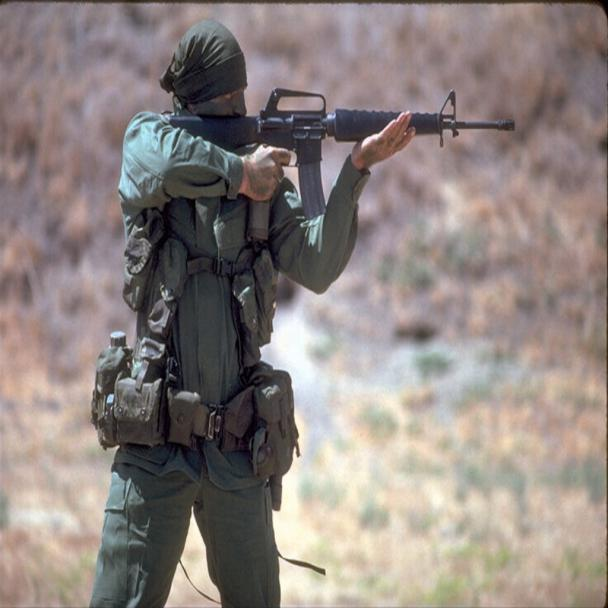Gun: (172, 84, 520, 148)
Hand: (348, 110, 420, 176), (232, 140, 290, 212)
